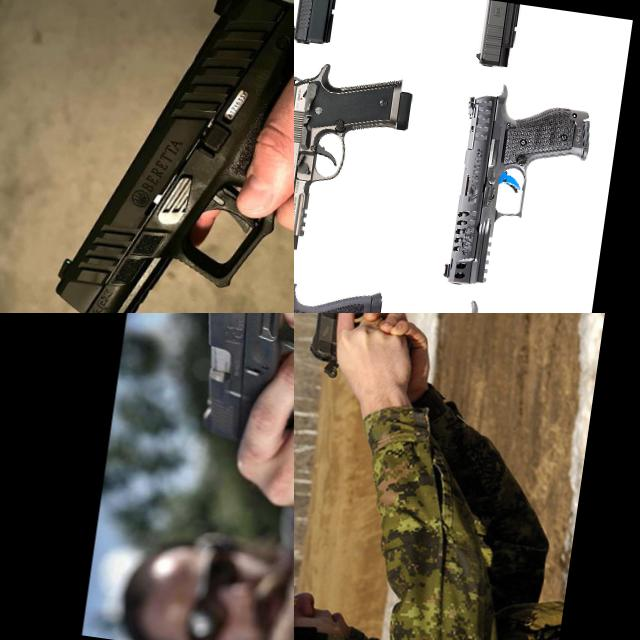handgun: (45, 0, 294, 313), (439, 74, 598, 301), (294, 55, 419, 273), (174, 313, 294, 458), (467, 0, 605, 115), (294, 0, 431, 92), (301, 313, 385, 386), (294, 270, 388, 313), (427, 292, 567, 313)
